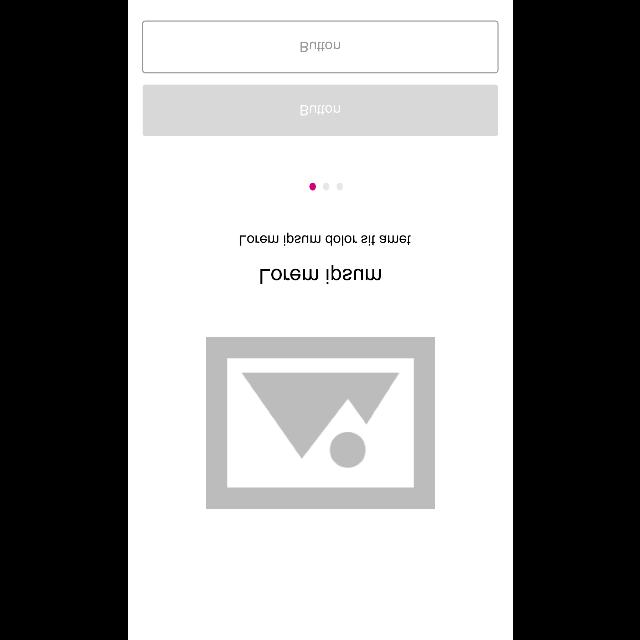image: (205, 336, 435, 509)
pageindicator: (308, 183, 342, 191)
text: (260, 265, 380, 285), (240, 232, 410, 245)
textbutton: (142, 21, 498, 74), (142, 84, 498, 136)
